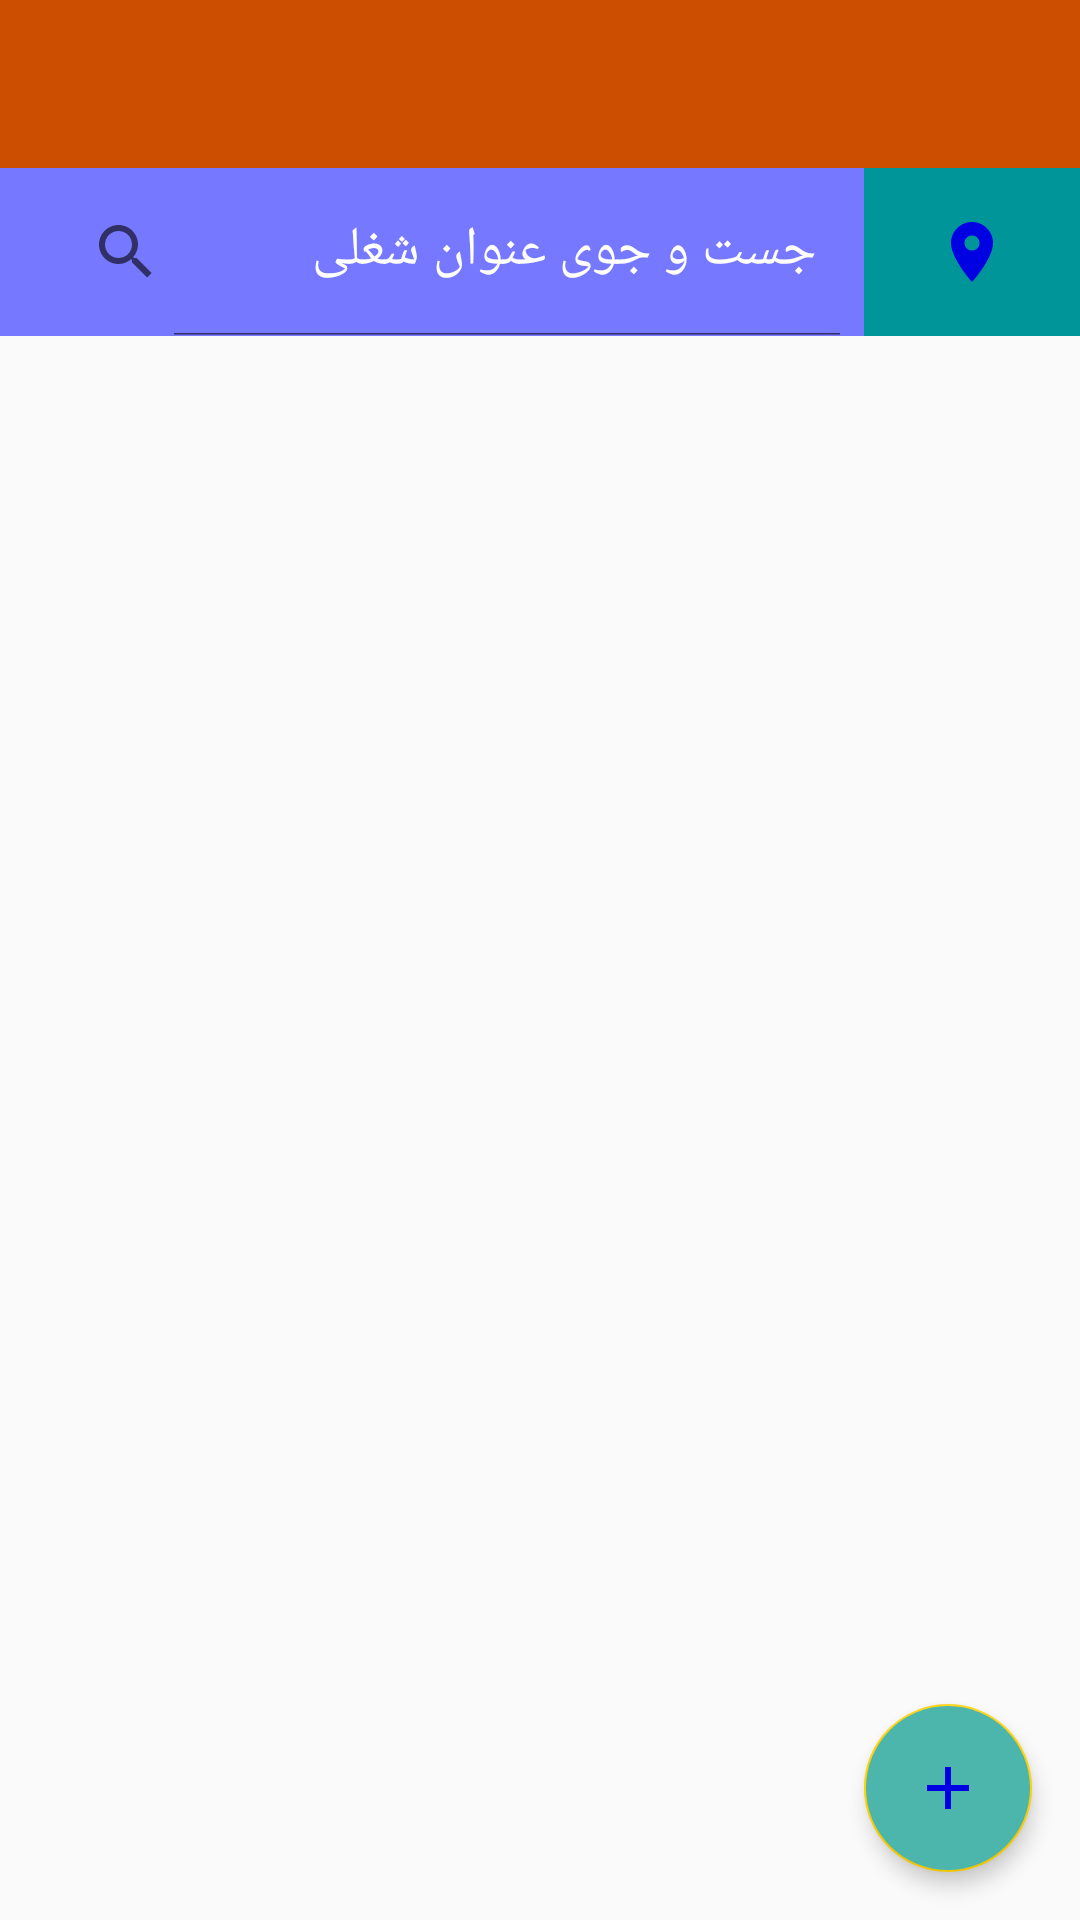

Point at icon controls on the screen. Image size 1080px×1920px, points as [x,y].
add: [948,1788]
location on: [972,252]
